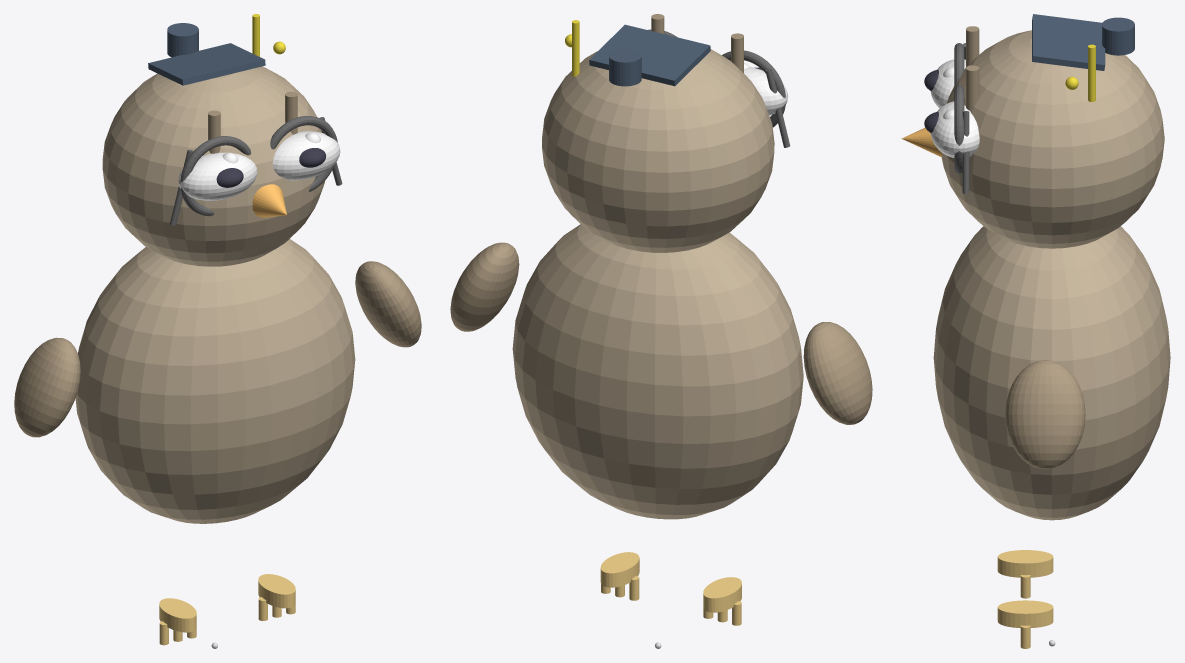
File: OwlTeacher.fbx
3 views of the same model, side by side, from view 1: azimuth 30°, elevation 25°; view 2: azimuth 150°, elevation 25°; view 3: azimuth 270°, elevation 25° (orthographic). The views are drawn at different scales.
Parts seen in each view (by area): view 1: OwlBody, OwlHead, OwlWing_L, OwlWing_R, OwlCap_Base, OwlEye_L, OwlEye_R, OwlGlasses_Frame_L, OwlFoot_L, OwlFoot_R, OwlGlasses_Frame_R, OwlCap_Top (+1 smaller); view 2: OwlBody, OwlHead, OwlWing_L, OwlWing_R, OwlCap_Base, OwlCap_Top, OwlFoot_R, OwlFoot_L, OwlEye_L, OwlGlasses_Frame_L; view 3: OwlBody, OwlHead, OwlWing_R, OwlCap_Base, OwlEye_R, OwlFoot_R, OwlFoot_L, OwlCap_Top, OwlGlasses_Frame_R, OwlEye_L, OwlBrow_R, OwlBeak (+3 smaller).
Part boxes in pixels (left/top/right/bottom): OwlBody: left=75, top=239, right=355, bottom=523; OwlHead: left=102, top=66, right=325, bottom=266; OwlWing_L: left=14, top=337, right=80, bottom=437; OwlWing_R: left=355, top=261, right=421, bottom=347; OwlCap_Base: left=148, top=43, right=265, bottom=85; OwlEye_L: left=178, top=152, right=257, bottom=200; OwlEye_R: left=272, top=131, right=340, bottom=180; OwlGlasses_Frame_L: left=180, top=136, right=251, bottom=216; OwlFoot_L: left=159, top=598, right=196, bottom=632; OwlFoot_R: left=258, top=574, right=295, bottom=608; OwlGlasses_Frame_R: left=270, top=116, right=337, bottom=191; OwlCap_Top: left=167, top=23, right=198, bottom=57; OwlBody: left=512, top=224, right=803, bottom=519; OwlHead: left=542, top=49, right=774, bottom=252; OwlWing_L: left=803, top=322, right=872, bottom=424; OwlWing_R: left=450, top=242, right=519, bottom=331; OwlCap_Base: left=589, top=24, right=710, bottom=86; OwlCap_Top: left=609, top=48, right=641, bottom=86; OwlFoot_R: left=600, top=552, right=639, bottom=587; OwlFoot_L: left=703, top=577, right=741, bottom=612; OwlEye_L: left=744, top=67, right=788, bottom=115; OwlGlasses_Frame_L: left=722, top=50, right=785, bottom=127; OwlBody: left=933, top=226, right=1170, bottom=520; OwlHead: left=941, top=30, right=1164, bottom=248; OwlWing_R: left=1005, top=360, right=1085, bottom=469; OwlCap_Base: left=1032, top=14, right=1105, bottom=70; OwlEye_R: left=930, top=101, right=979, bottom=157; OwlFoot_R: left=997, top=600, right=1053, bottom=628; OwlFoot_L: left=997, top=550, right=1053, bottom=577; OwlCap_Top: left=1102, top=17, right=1134, bottom=55; OwlGlasses_Frame_R: left=954, top=85, right=964, bottom=174; OwlEye_L: left=930, top=59, right=965, bottom=108; OwlBrow_R: left=966, top=65, right=979, bottom=110; OwlBeak: left=901, top=128, right=941, bottom=157.
Bounding box in the file's own units: 0.1437 × 0.21 × 0.0812.
